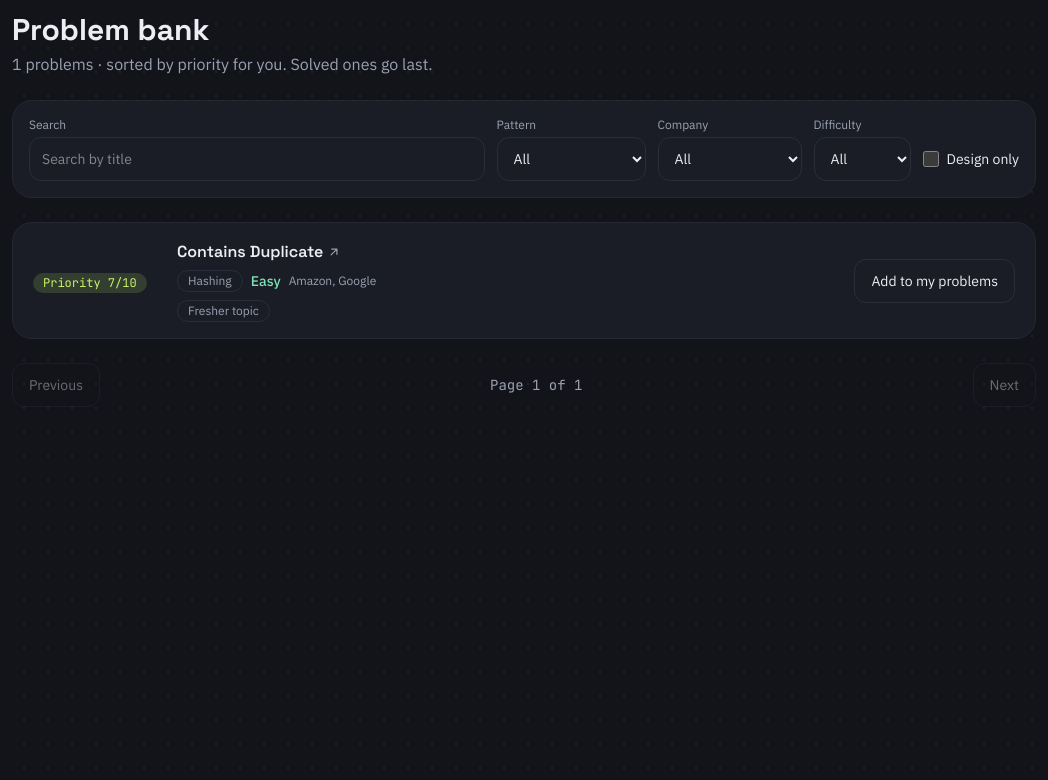
Test: Problem bank page › "Add to my problems" adds it and marks it solved
The width and height of the screenshot is (1048, 780).
Click the button with aria-label "Add Contains Duplicate to my problems": [935, 280] box [854, 258, 1015, 302]
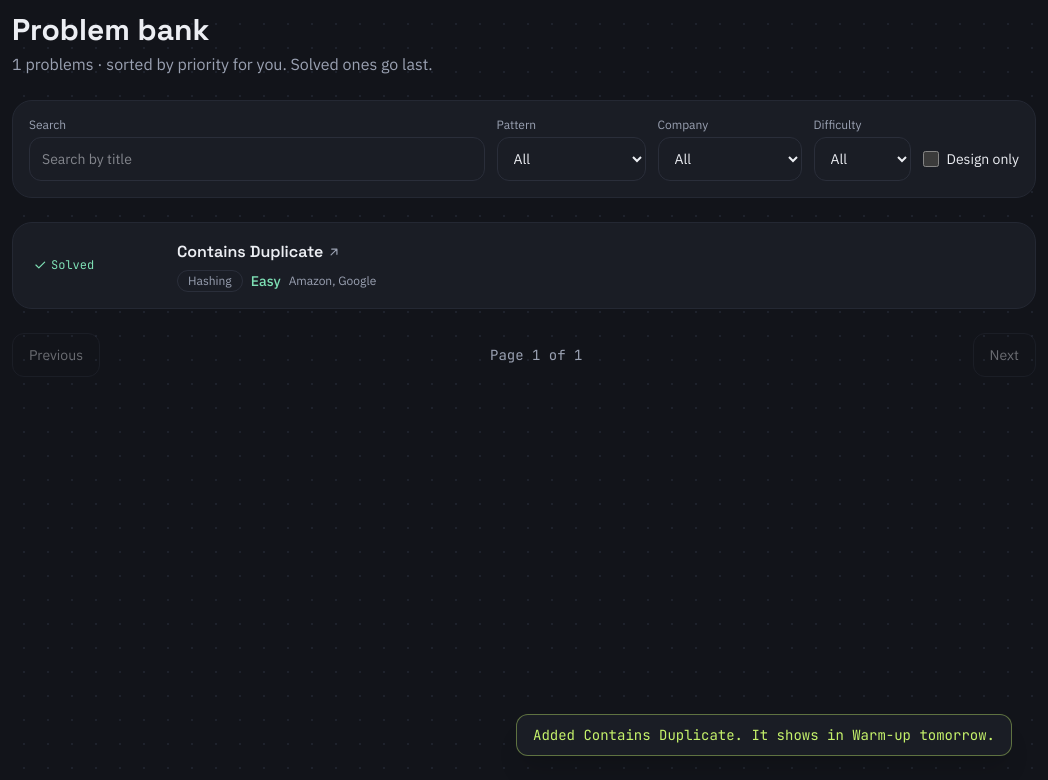
Result: the text "Solved" is shown at [33, 256, 94, 272]
Result: the message reads "Added Contains Duplicate. It shows in Warm-up tomorrow." at [533, 726, 995, 744]
